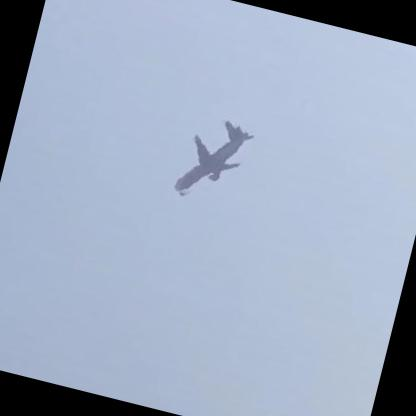plane: (176, 109, 258, 210)
